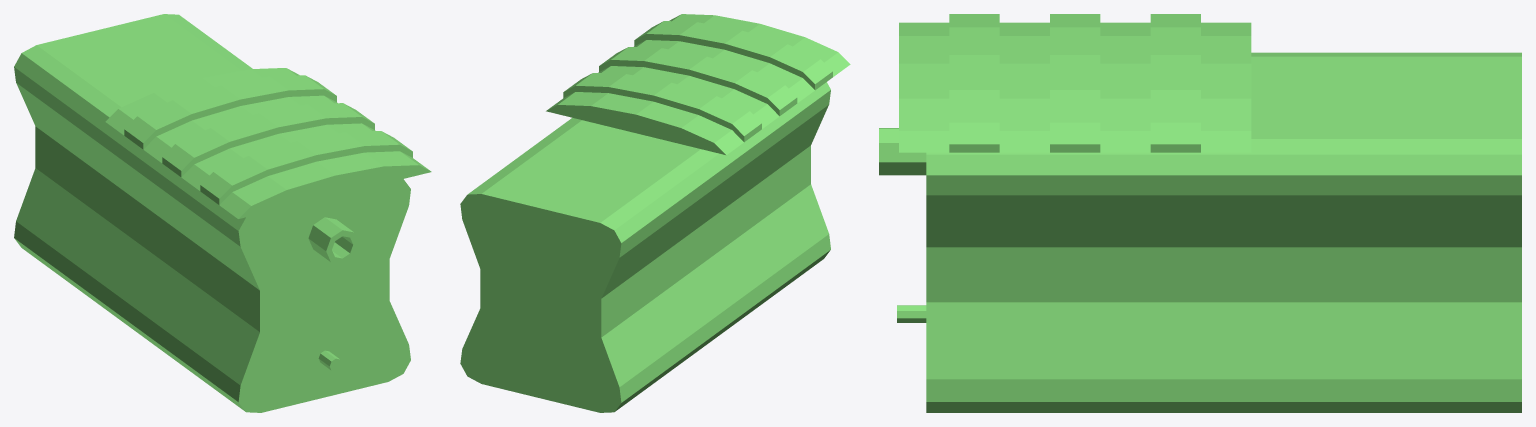
Rendered from Barrel_Bandit.glb.
The picture shows the model from 3 angles, left to right: view 1: azimuth 30°, elevation 25°; view 2: azimuth 150°, elevation 25°; view 3: azimuth 270°, elevation 25°; orthographic projection. The views are drawn at different scales.
Visible parts, largest first — view 1: Barrel.Bandit; view 2: Barrel.Bandit; view 3: Barrel.Bandit.
Part boxes in pixels (x1,y1,x2,y2): Barrel.Bandit: [14, 14, 431, 412]; Barrel.Bandit: [460, 14, 850, 412]; Barrel.Bandit: [879, 14, 1521, 412].
Size of the model in its own units: 0.2882 by 0.3354 by 0.6246.
